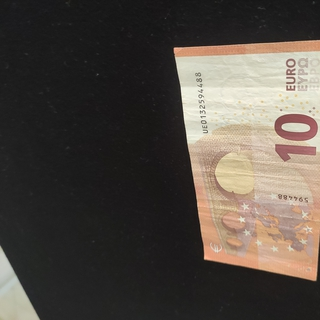10EUROBack: (172, 39, 320, 282)
